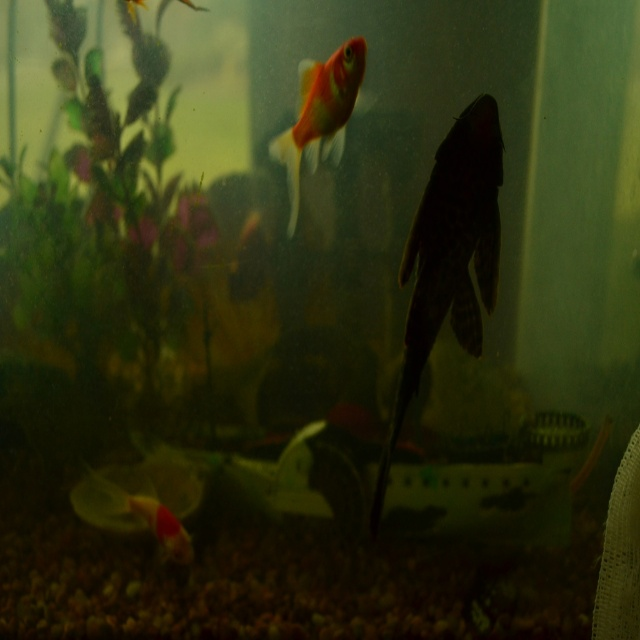Goldfish: (370, 92, 506, 531), (269, 37, 367, 236), (92, 466, 197, 563)
